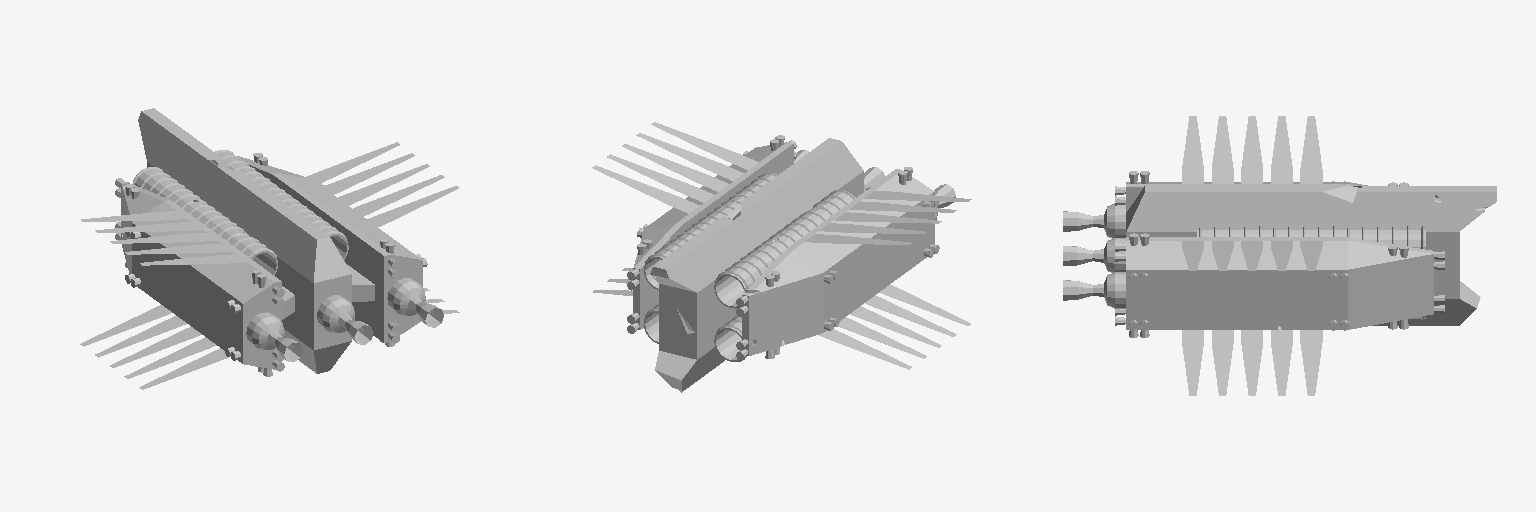
The model's file is Missile Carrierdamged(cleanedup)usethisone.obj.
3 renders of one model, left to right at view 1: azimuth 30°, elevation 25°; view 2: azimuth 150°, elevation 25°; view 3: azimuth 270°, elevation 25°, orthographic.
Visible parts, largest first — view 1: Cube; view 2: Cube; view 3: Cube.
Boxes of the visible parts, x1,y1,x2,y2 form: Cube: [80, 108, 459, 389]; Cube: [592, 122, 971, 392]; Cube: [1063, 116, 1496, 395].
Bounding box in the file's own units: 99.03 × 40 × 117.